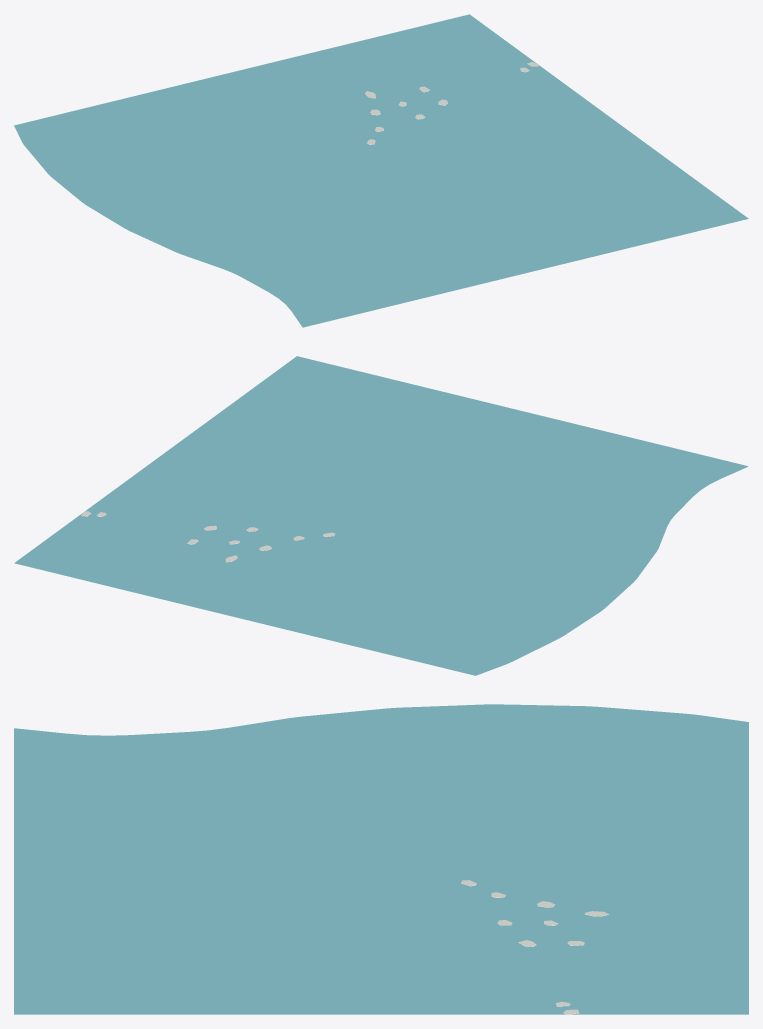
3 views of the same model, one above another, from view 1: azimuth 30°, elevation 25°; view 2: azimuth 150°, elevation 25°; view 3: azimuth 270°, elevation 25° (orthographic). The views are drawn at different scales.
Visible parts, largest first — view 1: city; view 2: city; view 3: city.
Boxes of the visible parts, x1=… form: city: x1=14, y1=14, x2=748, y2=327; city: x1=14, y1=356, x2=748, y2=675; city: x1=14, y1=704, x2=748, y2=1014.
Size of the model in its own units: 499 by 0.18 by 500.
